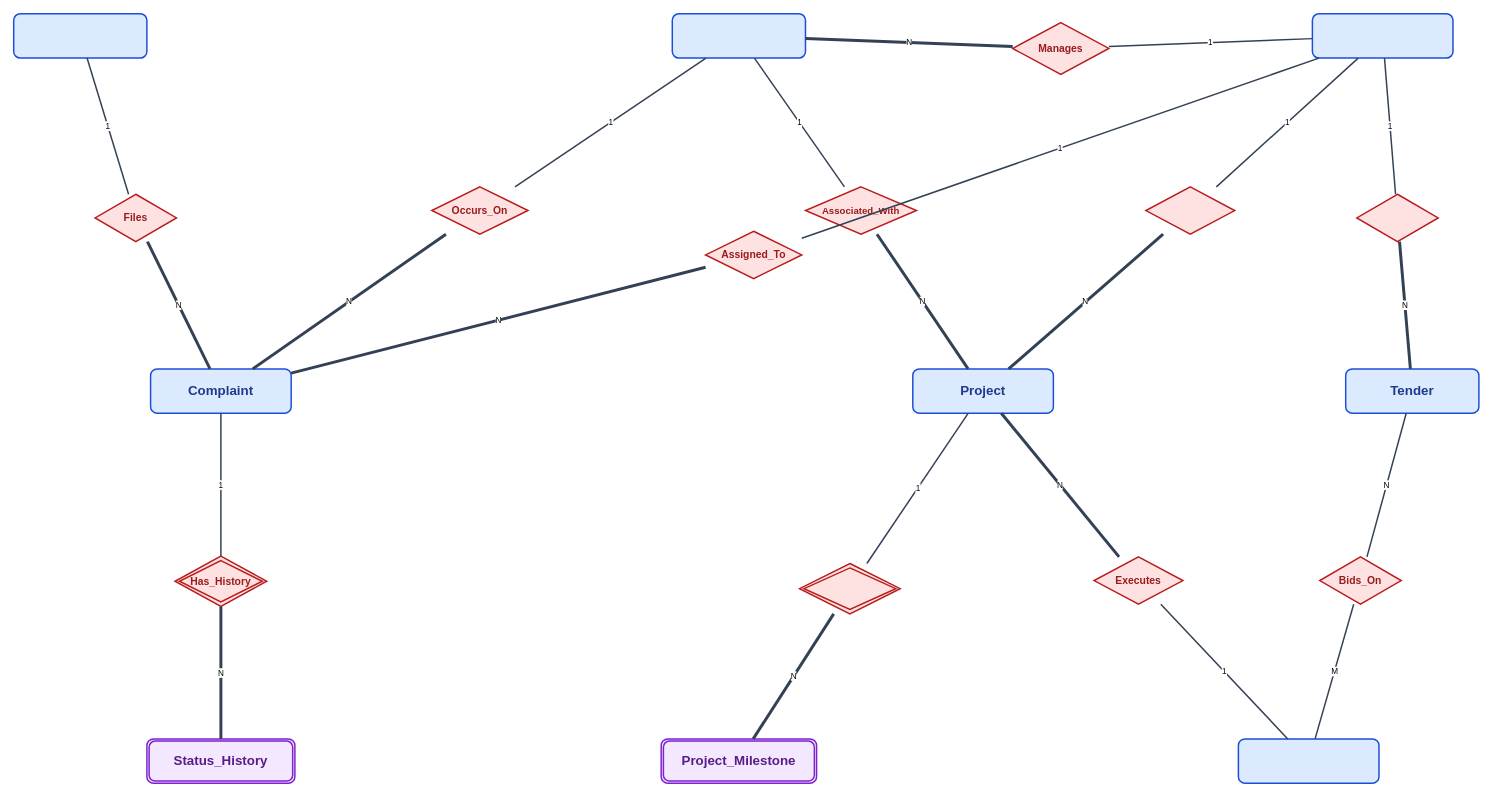
This 1492x796 diagram has some shape labels left out. The shapes that lost their labels are listed below. From the top down, each one's centre as x and y in pixels, then its label:
At point (80, 35): "Citizen".
At point (738, 35): "Road".
At point (1382, 35): "Authority".
At point (1190, 210): "Governs".
At point (1397, 217): "Floats".
At point (849, 588): "Has_Milestone".
At point (1308, 761): "Contractor".
